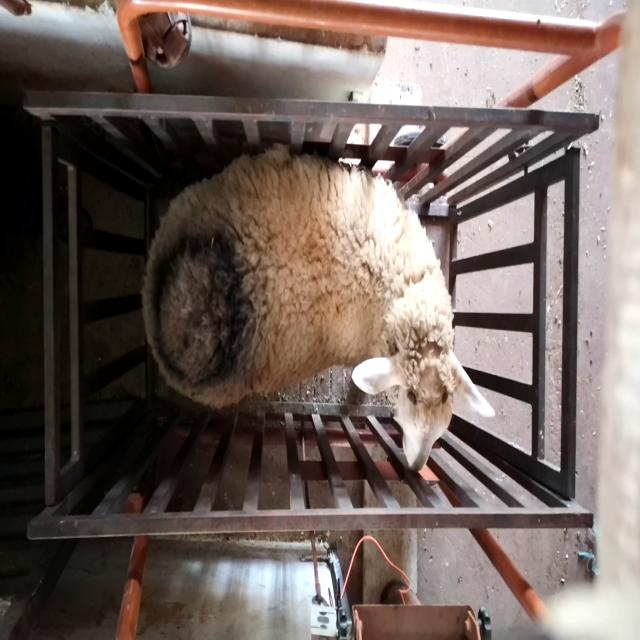sheep: (141, 143, 497, 473)
